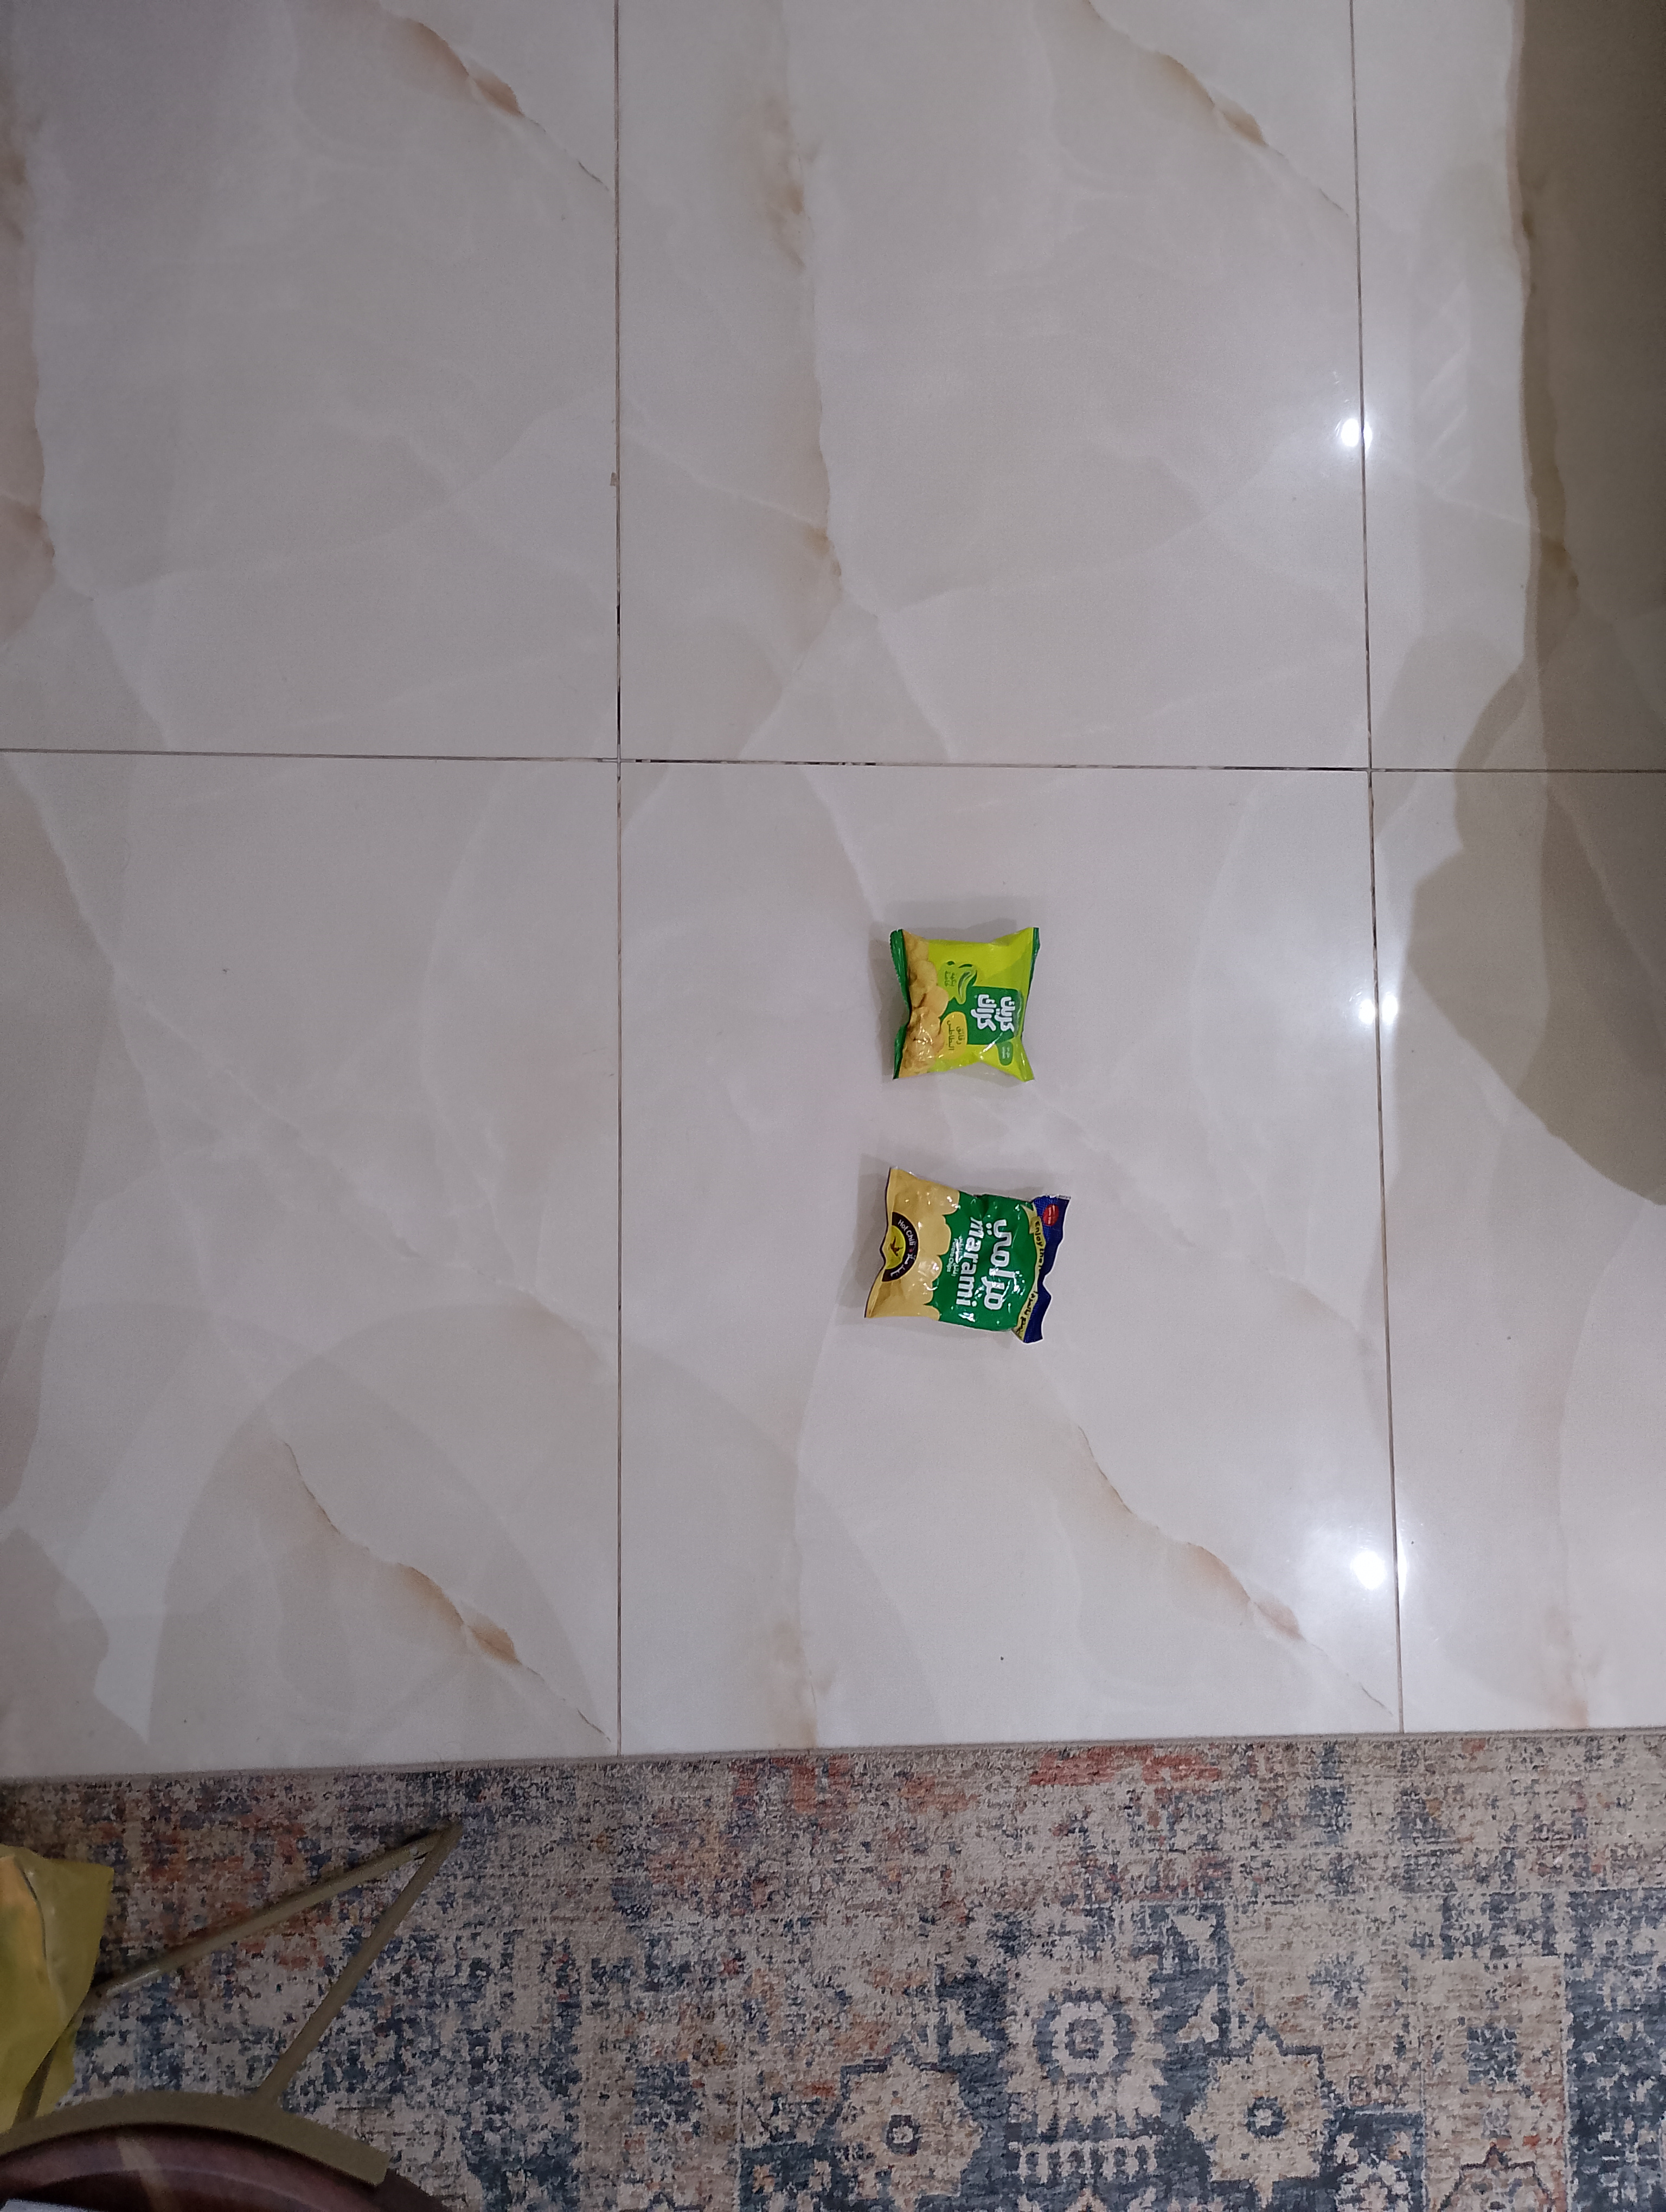cric_crac_special_flavour: (889, 927, 1041, 1082)
marami_hot_chili: (863, 1165, 1073, 1345)
